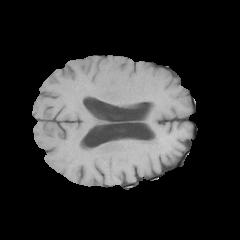glioma: (80, 136, 165, 168)
